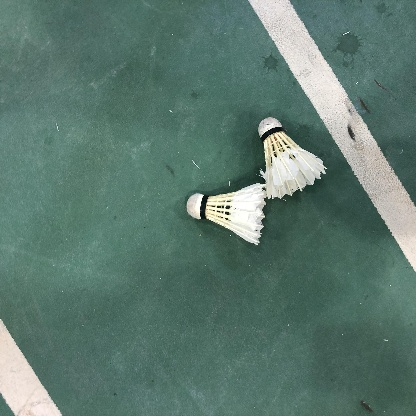ball_single: (258, 117, 326, 199), (186, 183, 268, 245)
